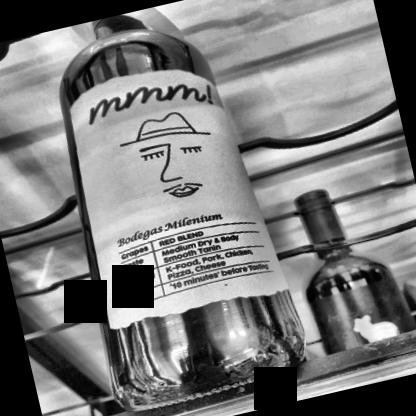umm: (56, 53, 274, 341)
